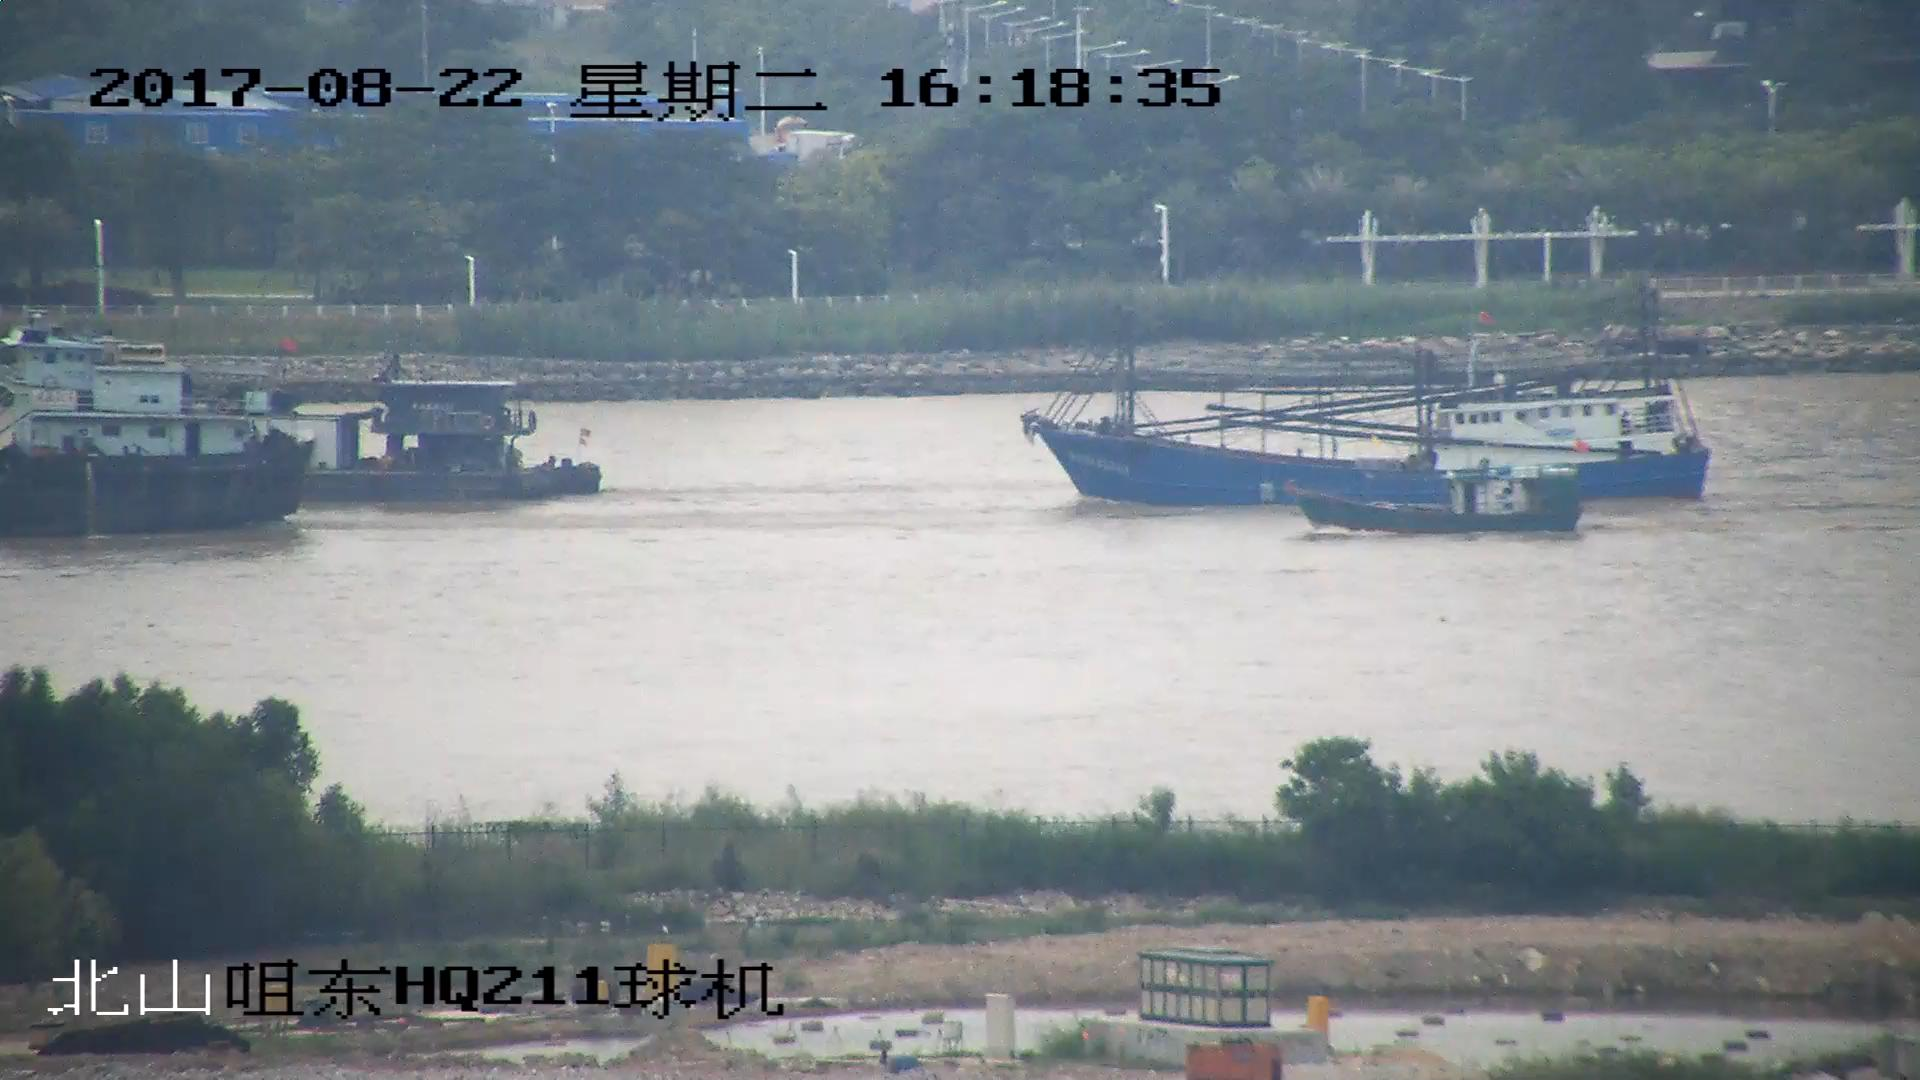bulk cargo carrier: (1, 354, 619, 505), (1, 329, 318, 527)
fishing boat: (1021, 280, 1710, 507), (1297, 456, 1584, 535)
